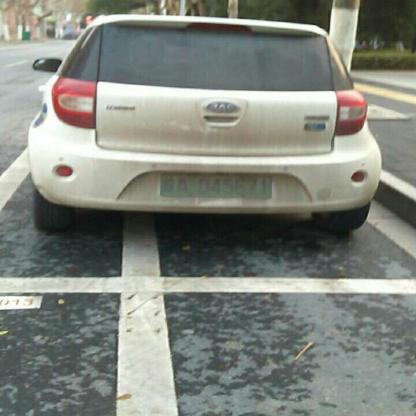lp: (161, 174, 272, 197)
